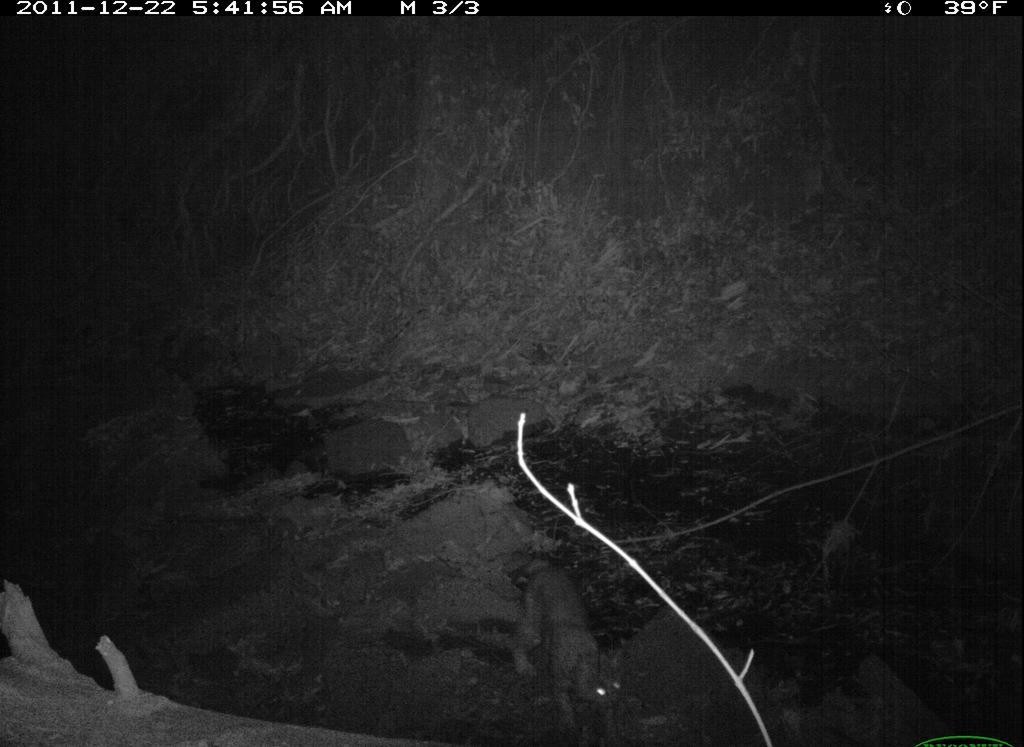bobcat: (505, 545, 642, 743)
